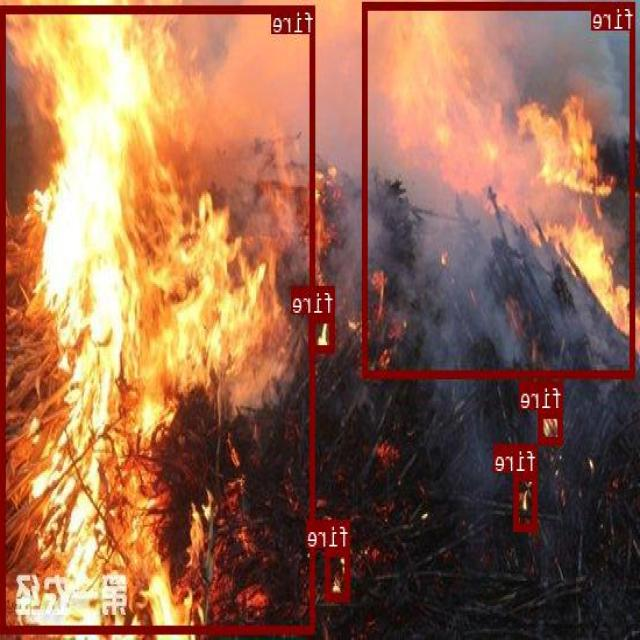fire: (2, 4, 316, 631), (364, 1, 636, 377), (514, 472, 538, 529), (327, 548, 351, 600), (310, 313, 336, 352), (540, 408, 564, 442)
